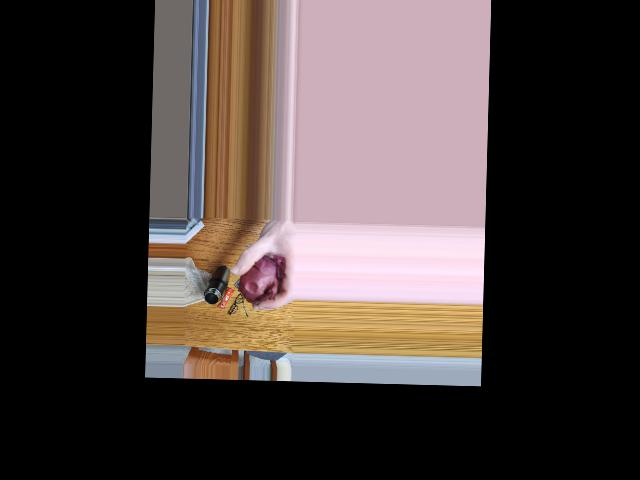onion: (244, 251, 283, 310)
